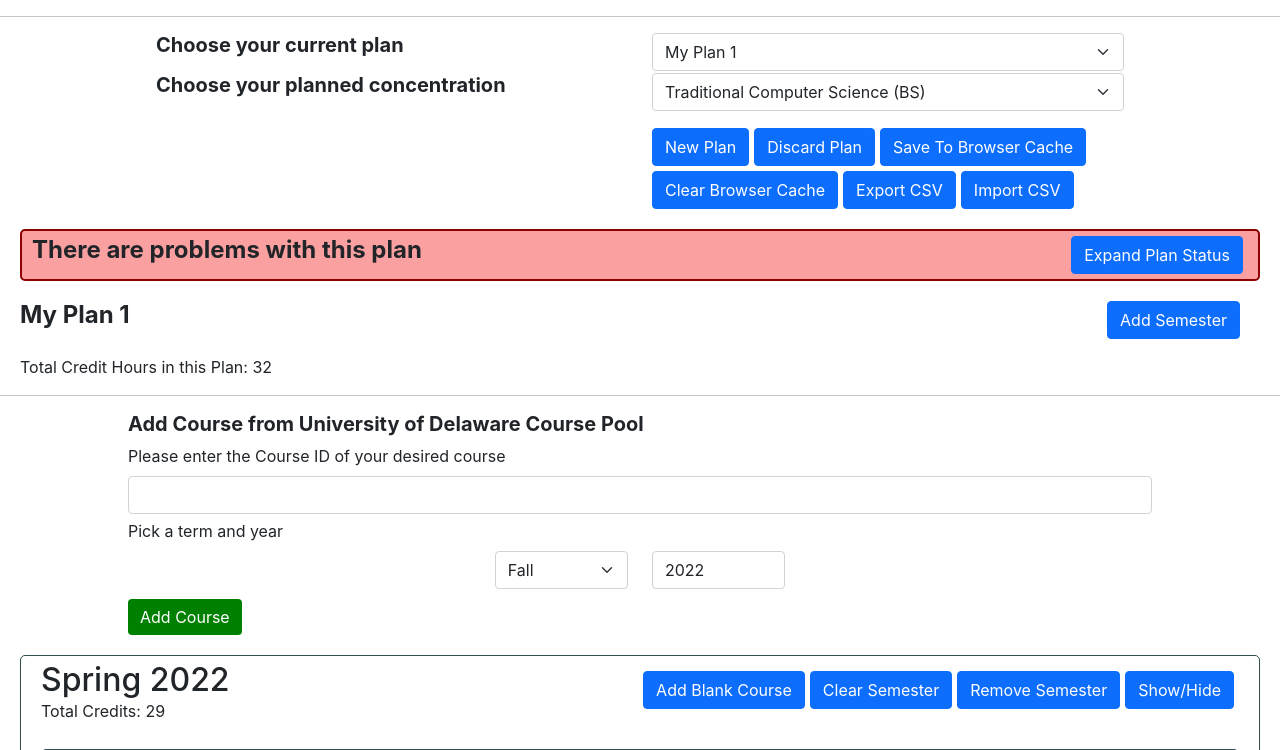
Test: Planner Tests › Modal appears when saving plan
Expected: the text "Plans will be remembered on next page load" is not shown
Click the button with test id "save-plan-button": (983, 147) [880,128,1086,166]
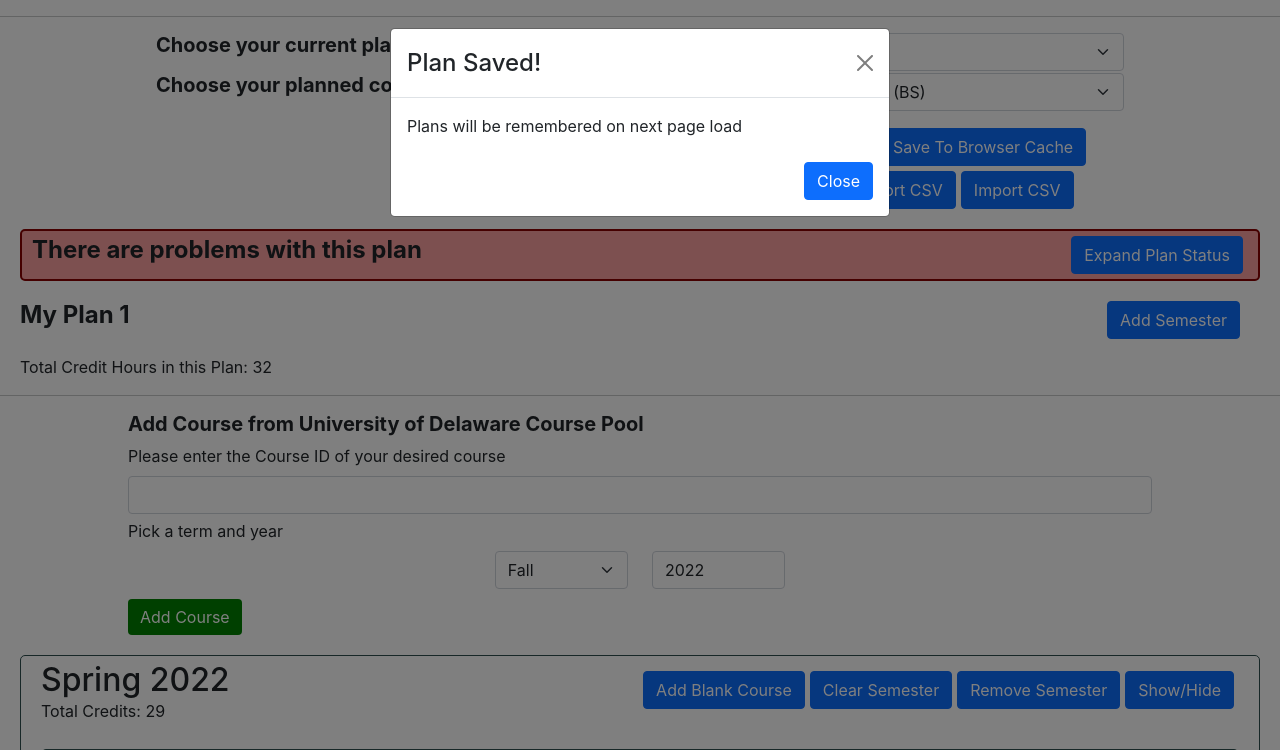
Expected: the text "Plans will be remembered on next page load" is shown, [407,116,742,136]
